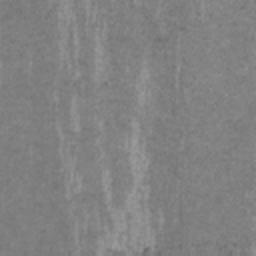Finishing roll printing: (127, 58, 152, 248), (58, 128, 82, 199)
